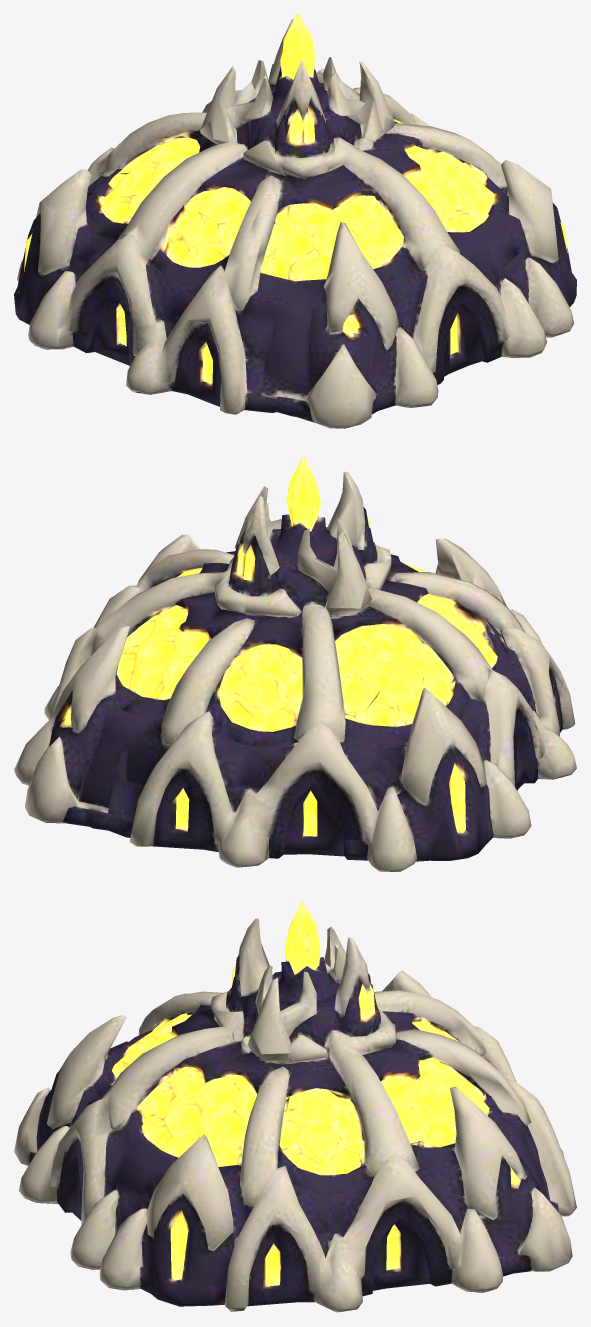
The model's file is zeynep-7-tier-1.glb.
The picture shows the model from 3 angles, top to bottom: view 1: azimuth 30°, elevation 25°; view 2: azimuth 150°, elevation 25°; view 3: azimuth 270°, elevation 25°; orthographic projection. The views are drawn at different scales.
Visible parts, largest first — view 1: fixed-platform, moving-assembly; view 2: fixed-platform, moving-assembly; view 3: fixed-platform, moving-assembly.
Part boxes in pixels (x1,y1,x2,y2): fixed-platform: (14,69,576,428); moving-assembly: (200,14,394,157); fixed-platform: (14,527,576,871); moving-assembly: (228,457,377,608); fixed-platform: (14,970,576,1312); moving-assembly: (226,901,381,1054).
Size of the model in its own units: 1.73 by 1.02 by 1.74.
1 material, 1 textured.
